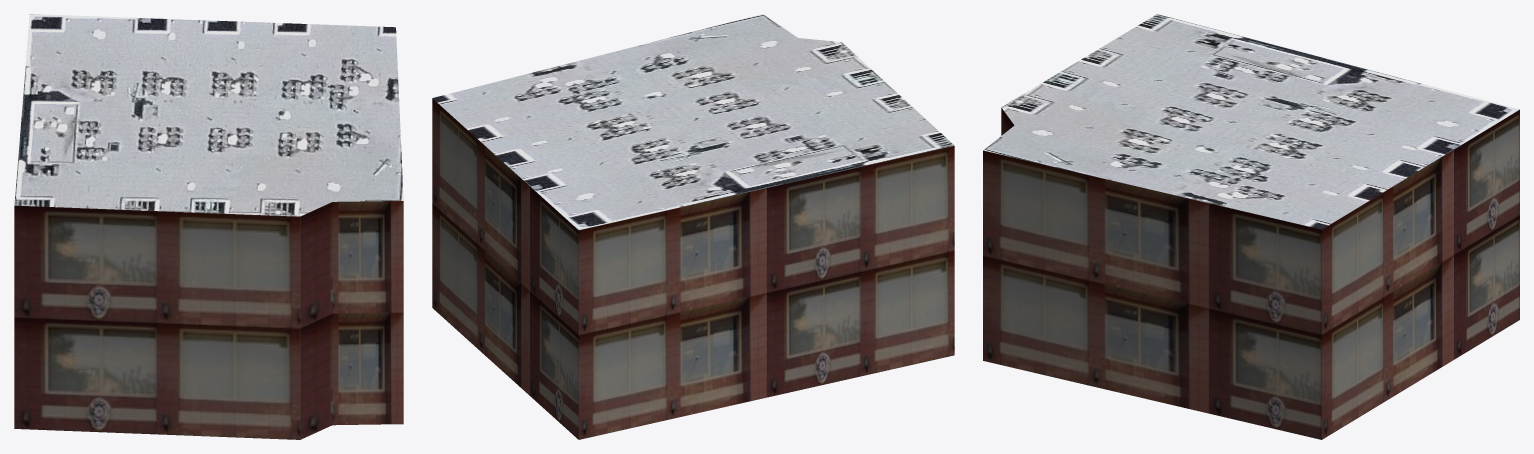
Rendered from ResTex__4562.fbx.
The picture shows the model from 3 angles, left to right: view 1: azimuth 30°, elevation 25°; view 2: azimuth 150°, elevation 25°; view 3: azimuth 270°, elevation 25°; orthographic projection. The views are drawn at different scales.
Visible parts, largest first — view 1: CityEngineMaterial_13_m, CityEngineMaterial_m; view 2: CityEngineMaterial_13_m, CityEngineMaterial_m; view 3: CityEngineMaterial_13_m, CityEngineMaterial_m.
Part boxes in pixels (<box>): CityEngineMaterial_13_m: <box>14,201,403,439</box>; CityEngineMaterial_m: <box>14,14,403,216</box>; CityEngineMaterial_13_m: <box>432,98,954,439</box>; CityEngineMaterial_m: <box>432,14,954,229</box>; CityEngineMaterial_13_m: <box>983,108,1519,439</box>; CityEngineMaterial_m: <box>983,14,1519,229</box>.
Size of the model in its own units: 13.19 by 6 by 13.88.
Materials: 2 (2 with a texture image).
